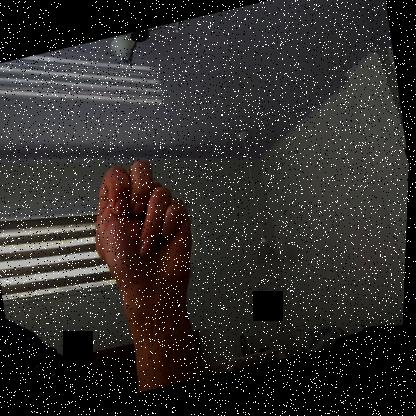N: (82, 146, 209, 315)
